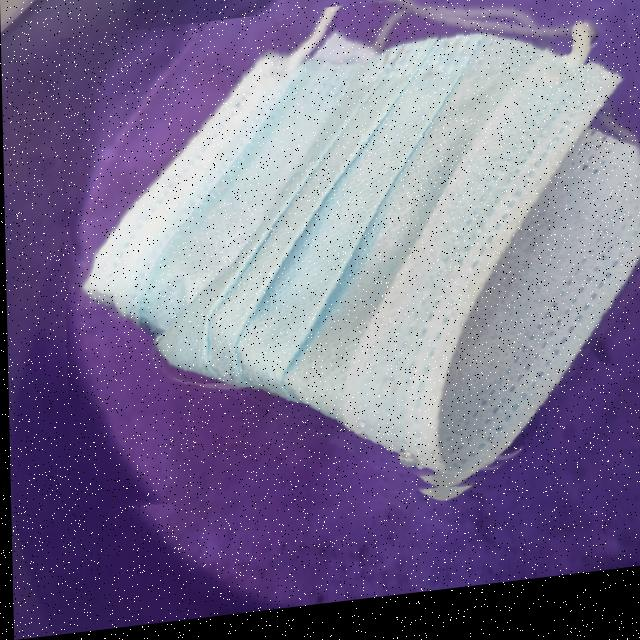mask: (60, 0, 640, 545)
